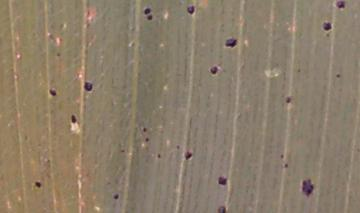tarspot: (301, 177, 314, 199), (223, 37, 238, 48), (321, 20, 333, 32), (208, 64, 220, 75), (83, 80, 93, 93), (217, 174, 227, 186), (185, 4, 195, 15), (284, 94, 294, 105), (335, 1, 347, 10), (48, 88, 57, 98), (184, 150, 192, 161), (70, 113, 77, 125), (142, 7, 151, 16), (216, 205, 226, 213), (33, 180, 42, 188), (54, 51, 64, 58), (334, 71, 342, 79), (112, 192, 119, 201), (141, 125, 148, 134), (278, 151, 285, 160), (146, 14, 153, 22), (283, 162, 290, 170), (143, 136, 150, 143), (119, 148, 126, 155), (324, 31, 331, 38), (156, 152, 162, 160), (175, 143, 181, 150)
